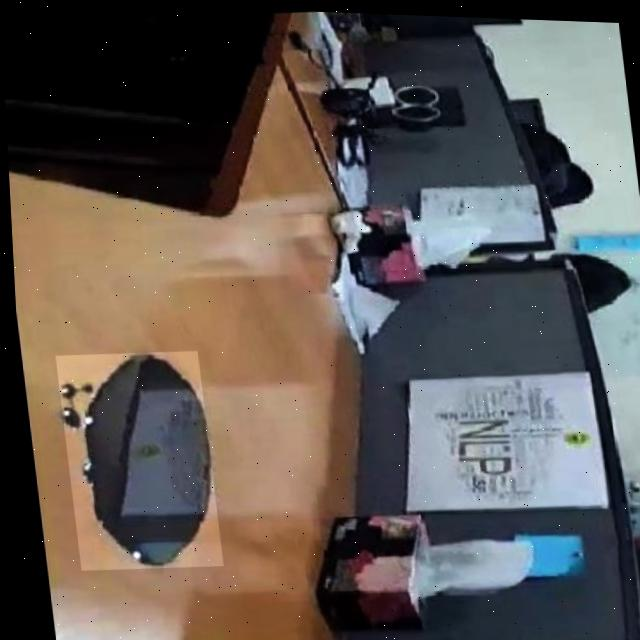spillage: (57, 352, 204, 567)
